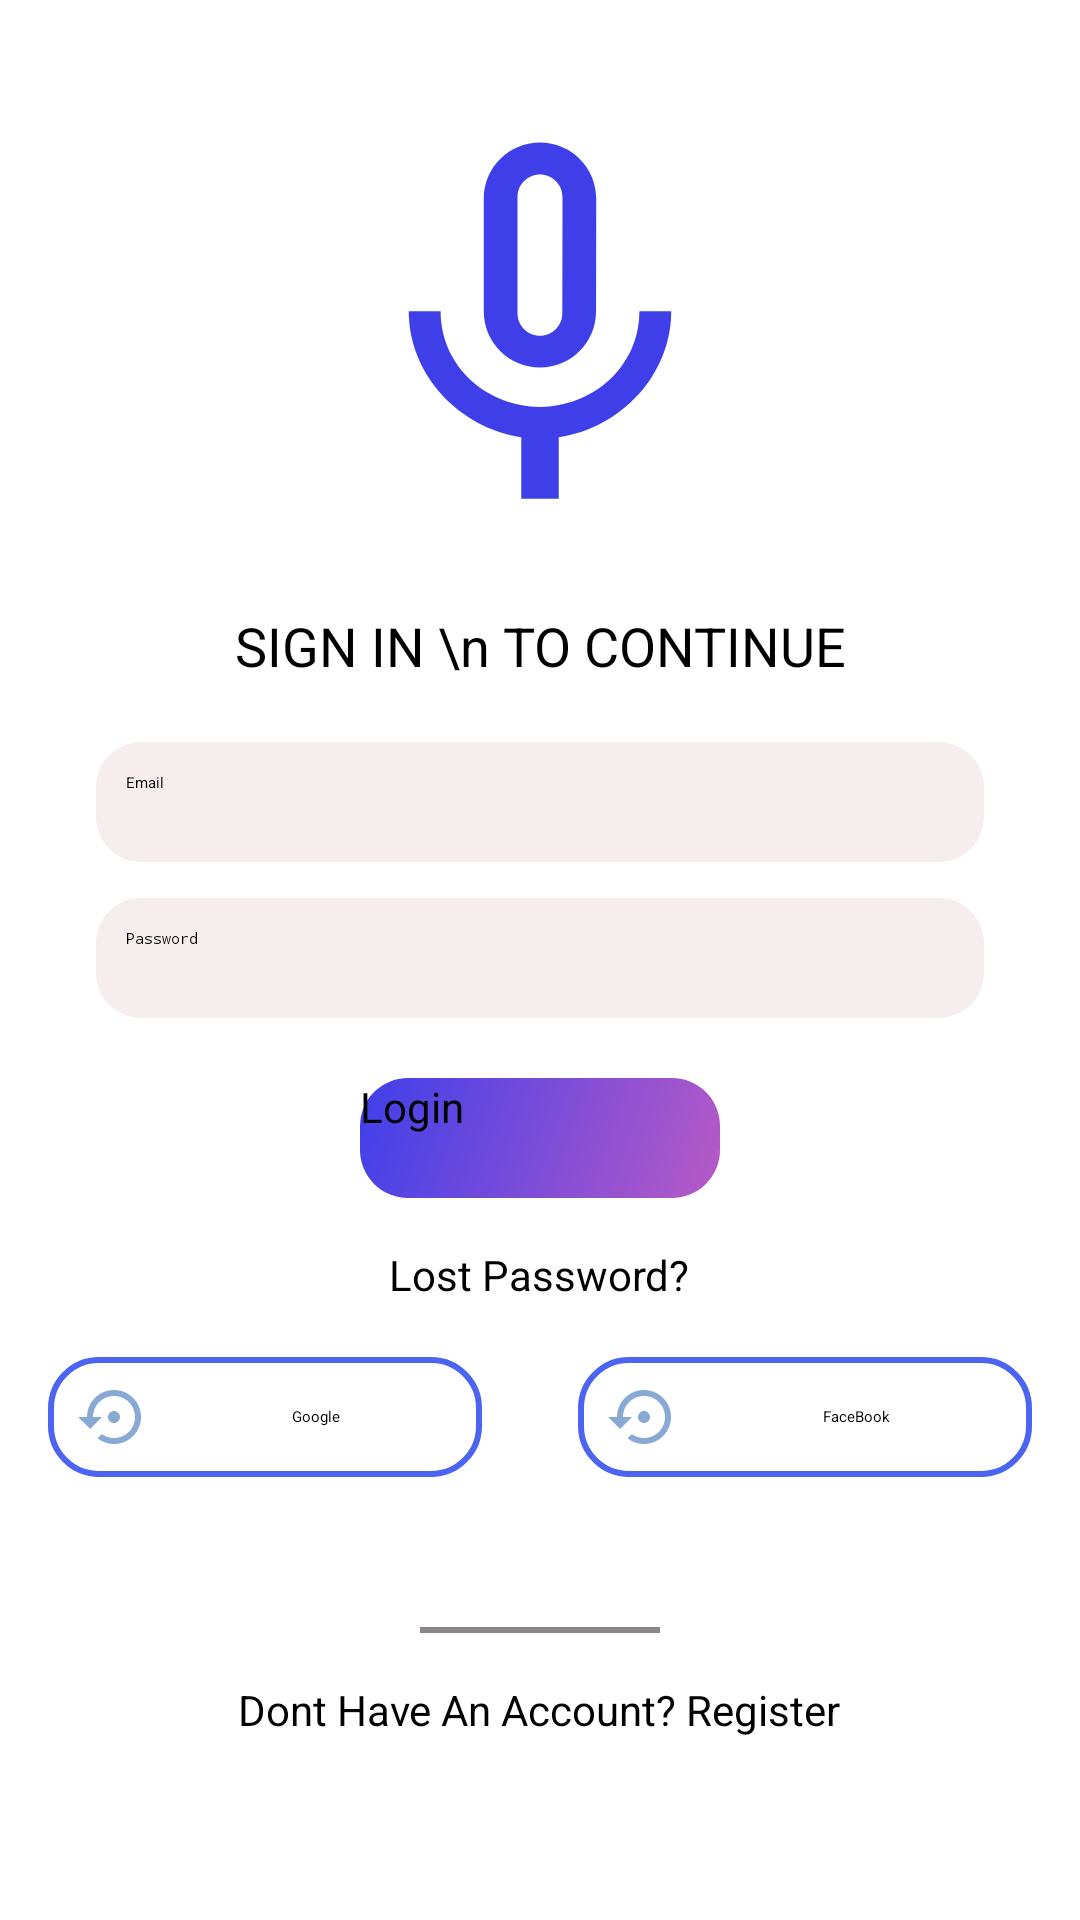

Locate icon controls on the screen. Image size 1080 x 1920, boxes as box(x1, y1, x2, y2).
mic none: box(408, 142, 672, 499)
